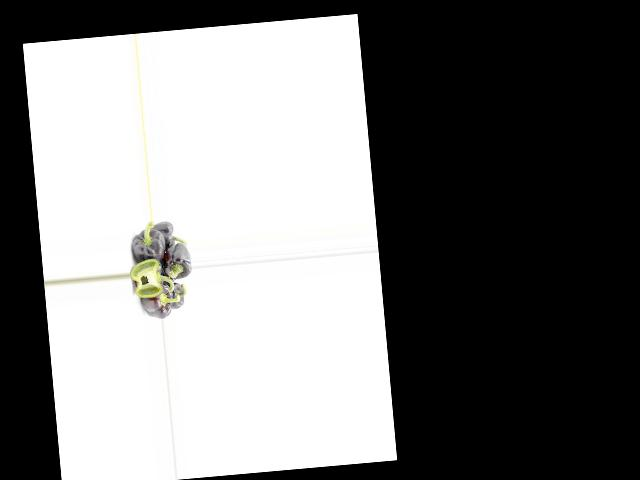bell_pepper: (141, 277, 174, 319)
